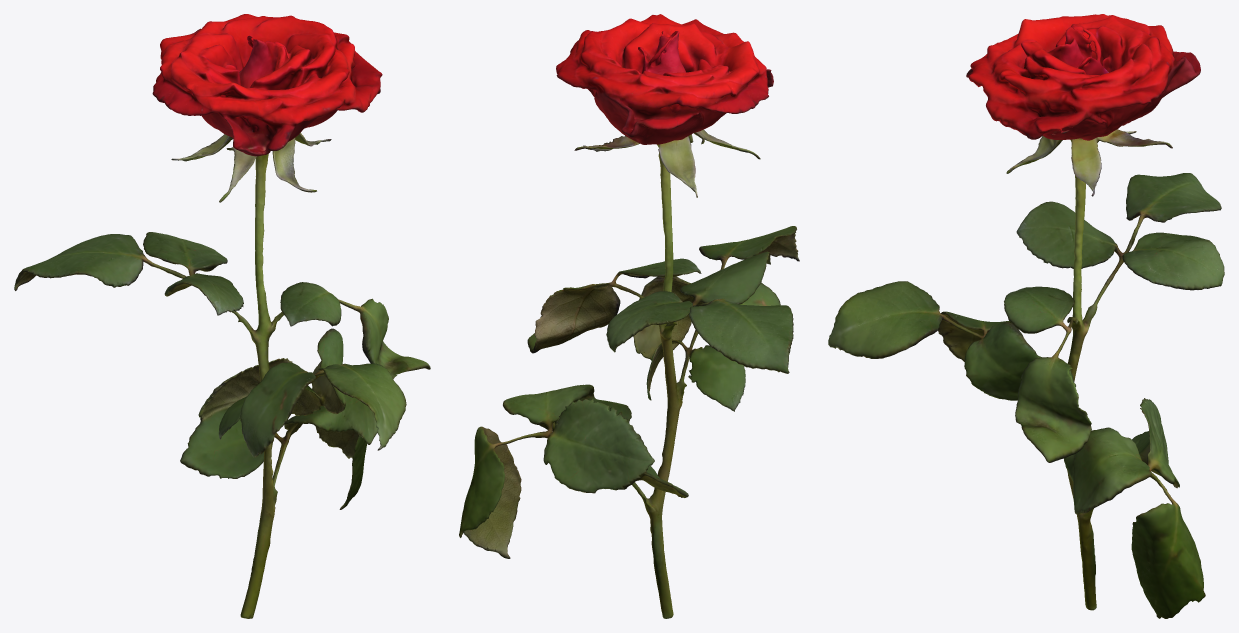
Rendered from red_rose_opt.glb.
The picture shows the model from 3 angles, left to right: view 1: azimuth 30°, elevation 25°; view 2: azimuth 150°, elevation 25°; view 3: azimuth 270°, elevation 25°; orthographic projection.
Visible parts, largest first — view 1: Object_2; view 2: Object_2; view 3: Object_2.
Part boxes in pixels (box(x1,y1,x2,y2)): Object_2: box(14, 14, 430, 618); Object_2: box(459, 14, 799, 618); Object_2: box(828, 14, 1224, 618).
Bounding box in the file's own units: 1.51 × 2.5 × 1.54.
Materials: 1 (1 with a texture image).
